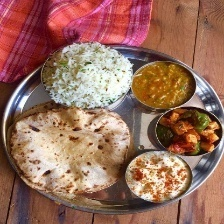rice: (40, 42, 132, 107)
